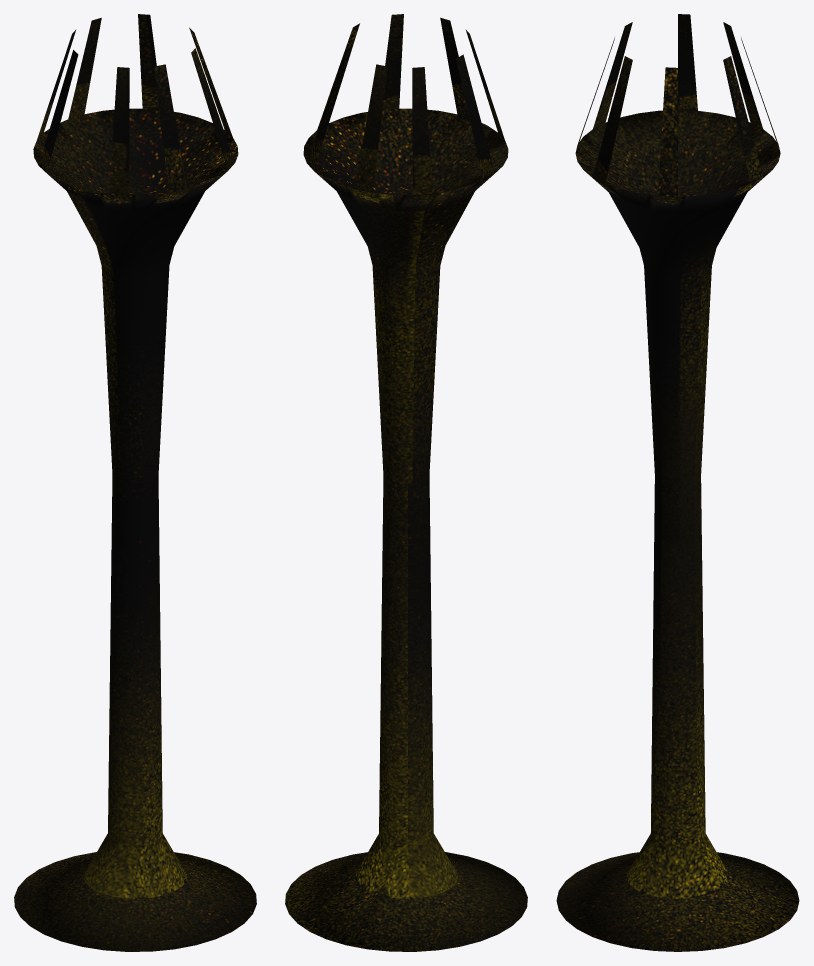
The model's file is Scourge.glb.
The picture shows the model from 3 angles, left to right: view 1: azimuth 30°, elevation 25°; view 2: azimuth 150°, elevation 25°; view 3: azimuth 270°, elevation 25°; orthographic projection.
Parts seen in each view (by area): view 1: Cylinder; view 2: Cylinder; view 3: Cylinder.
Boxes of the visible parts, bbox=[...] form: Cylinder: bbox=[14, 14, 256, 951]; Cylinder: bbox=[285, 14, 527, 951]; Cylinder: bbox=[556, 14, 799, 951].
Bounding box in the file's own units: 0.4956 × 1.93 × 0.4956.
1 material, 1 textured.
